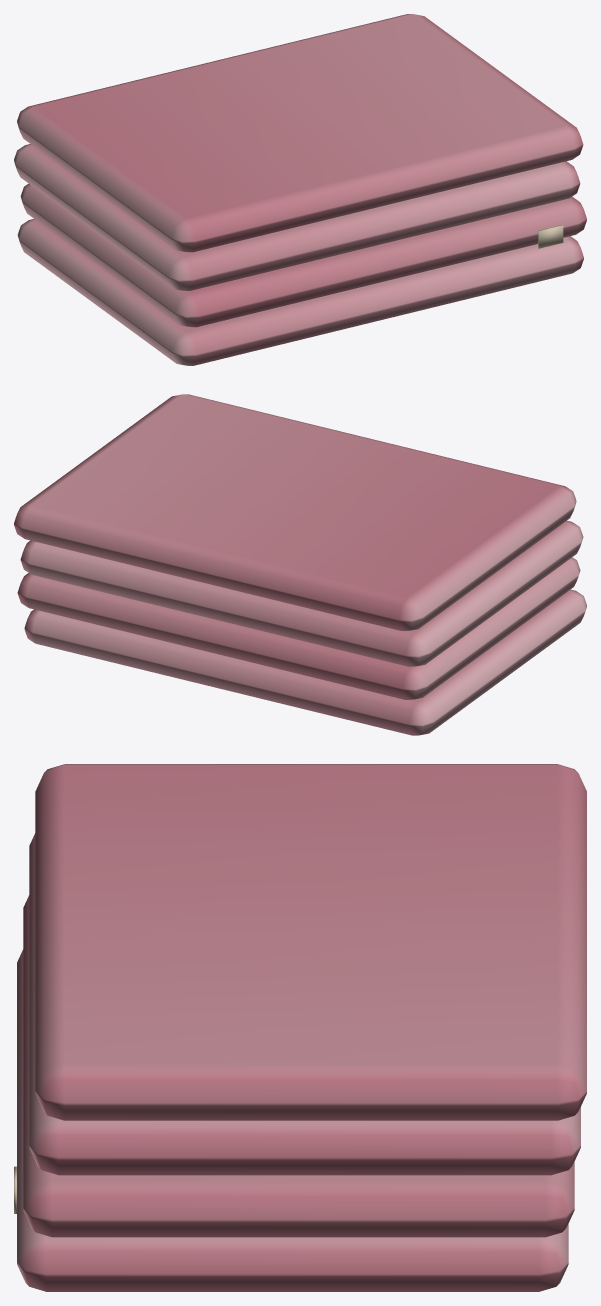
Rendered from folded_blanket.glb.
3 renders of one model, top to bottom at view 1: azimuth 30°, elevation 25°; view 2: azimuth 150°, elevation 25°; view 3: azimuth 270°, elevation 25°, orthographic. The views are drawn at different scales.
Parts seen in each view (by area): view 1: folded_blanket; view 2: folded_blanket; view 3: folded_blanket.
Boxes of the visible parts, x1=… form: folded_blanket: x1=14, y1=14, x2=586, y2=365; folded_blanket: x1=14, y1=394, x2=586, y2=735; folded_blanket: x1=14, y1=764, x2=586, y2=1291.
Size of the model in its own units: 0.506 by 0.166 by 0.374.
